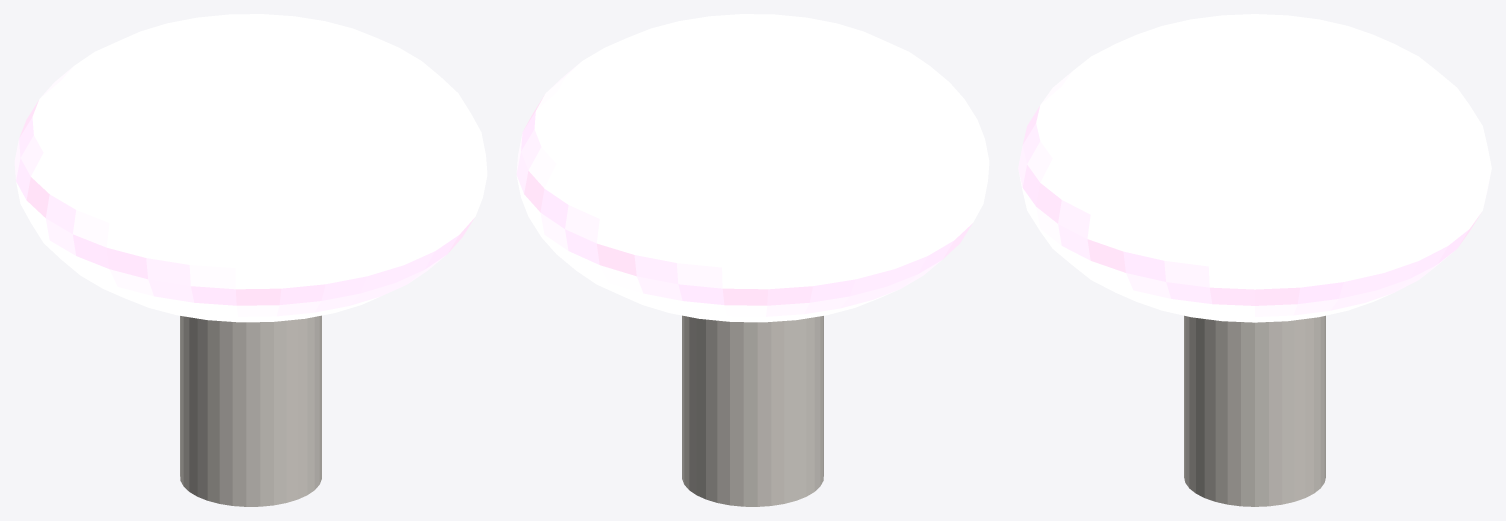
The model's file is fairy_mushroom.glb.
3 renders of one model, left to right at view 1: azimuth 30°, elevation 25°; view 2: azimuth 150°, elevation 25°; view 3: azimuth 270°, elevation 25°, orthographic.
Visible parts, largest first — view 1: Sphere, Cylinder; view 2: Sphere, Cylinder; view 3: Sphere, Cylinder.
Boxes of the visible parts, left/top/right/bottom form: Sphere: left=14, top=14, right=487, bottom=322; Cylinder: left=180, top=315, right=321, bottom=506; Sphere: left=516, top=14, right=989, bottom=322; Cylinder: left=682, top=315, right=823, bottom=506; Sphere: left=1018, top=14, right=1491, bottom=322; Cylinder: left=1184, top=315, right=1325, bottom=506.
Size of the model in its own units: 0.8 by 0.795 by 0.8.
